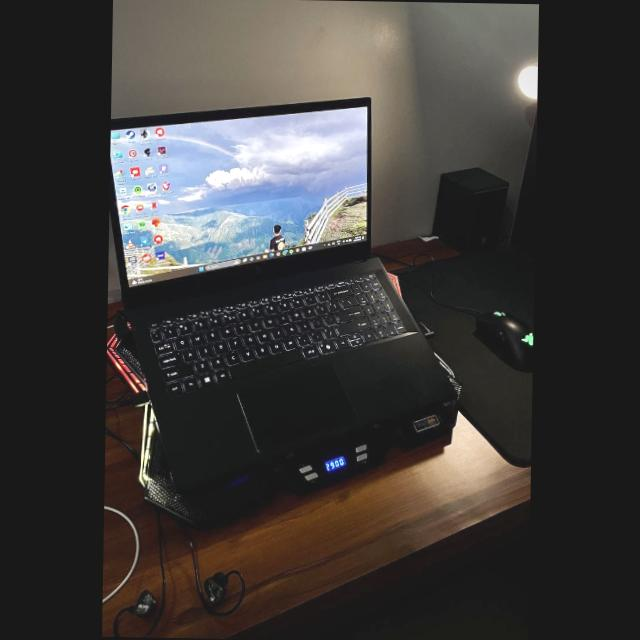laptop: (109, 97, 452, 504)
